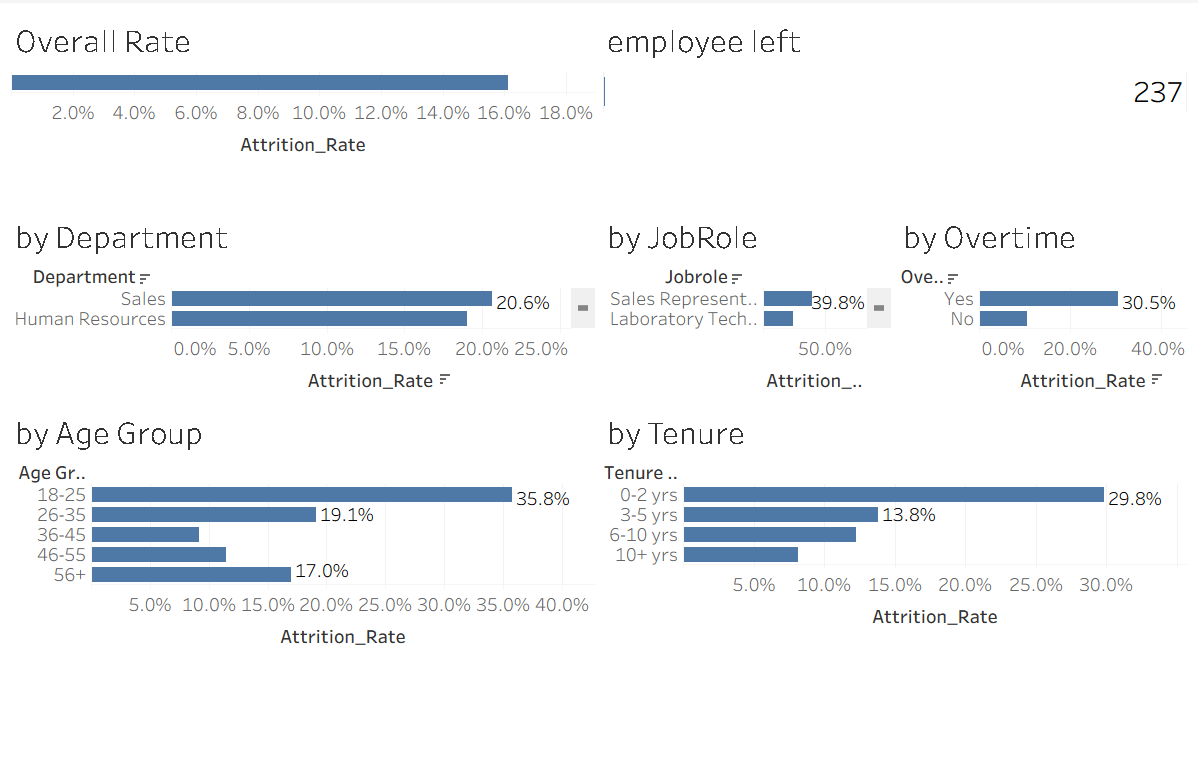

Layout of this report page (visuals, bound fields, positions):
{"tool":"tableau","page":{"name":"Dashboard 1","canvas":[1200,800],"ordinal":0},"visuals":[{"type":"worksheet","title":"Overall Rate","mark":"Bar","cols":["Calculation_0386819795304448"],"box":[8,8,592,196]},{"type":"worksheet","title":"employee left","mark":"Bar","box":[600,8,592,196]},{"type":"worksheet","title":"by Department","mark":"Automatic","rows":["department"],"cols":["Calculation_0386819795304448"],"box":[8,204,592,196]},{"type":"worksheet","title":"by JobRole","mark":"Automatic","rows":["jobrole"],"cols":["Calculation_0386819795304448"],"box":[600,204,296,196]},{"type":"worksheet","title":"by Overtime","mark":"Automatic","rows":["overtime"],"cols":["Calculation_0386819795304448"],"box":[896,204,296,196]},{"type":"worksheet","title":"by Age Group","mark":"Automatic","rows":["age_group"],"cols":["Calculation_0386819795304448"],"box":[8,400,592,392]},{"type":"worksheet","title":"by Tenure","mark":"Automatic","rows":["tenure_group"],"cols":["Calculation_0386819795304448"],"box":[600,400,592,392]}]}

Visuals, with their boxes in screenshot pixels (x1, y1, x2, y2), scaled from the page's 1200x800 canvas onto the 1198x781 screenshot:
"Overall Rate" worksheet (Bar marks): l=8, t=8, r=599, b=199
"employee left" worksheet (Bar marks): l=599, t=8, r=1190, b=199
"by Department" worksheet: l=8, t=199, r=599, b=390
"by JobRole" worksheet: l=599, t=199, r=895, b=390
"by Overtime" worksheet: l=895, t=199, r=1190, b=390
"by Age Group" worksheet: l=8, t=390, r=599, b=773
"by Tenure" worksheet: l=599, t=390, r=1190, b=773
